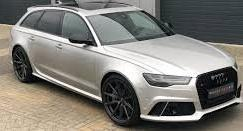Crossovers: (10, 8, 242, 126), (10, 9, 242, 126)
